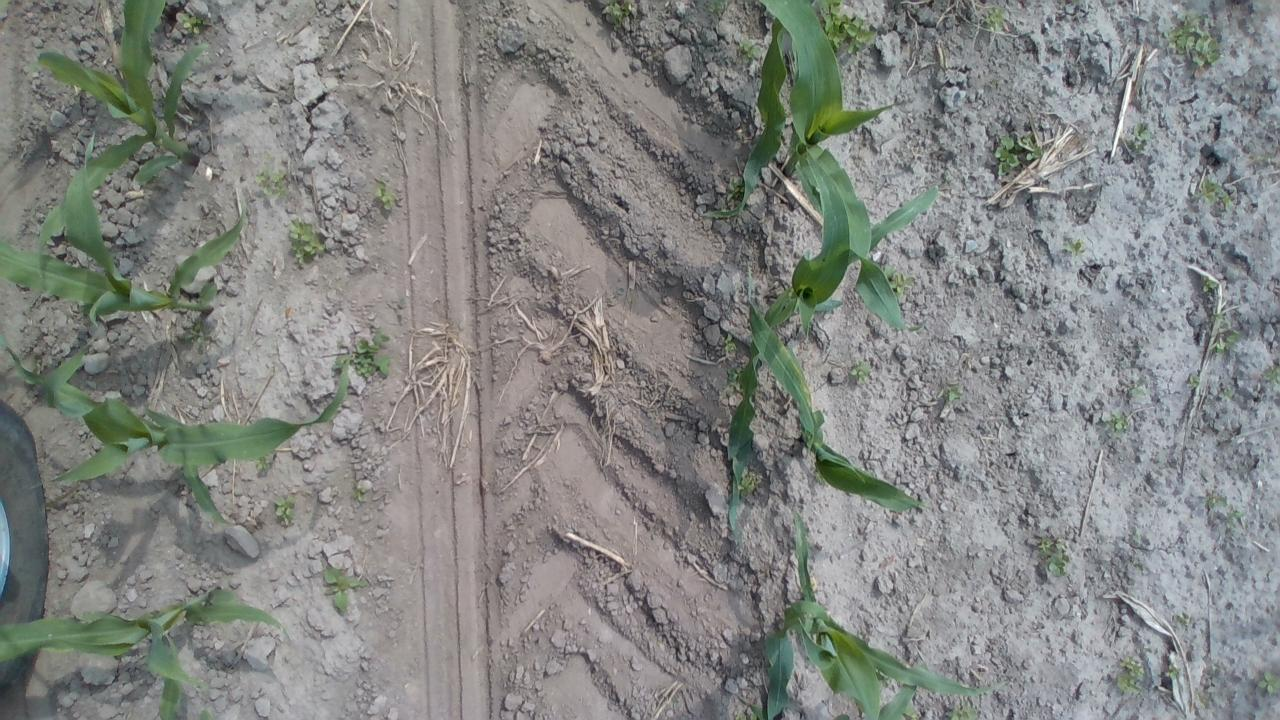Maize: (724, 163, 940, 548), (1, 334, 354, 528), (742, 508, 1005, 720), (0, 132, 249, 350), (754, 2, 912, 335), (28, 0, 206, 287), (749, 266, 939, 530), (0, 588, 293, 720), (702, 0, 794, 226)
Weeds: (810, 0, 879, 56), (332, 328, 396, 380), (1165, 12, 1221, 68), (994, 132, 1044, 176), (322, 566, 367, 612), (286, 217, 325, 266), (255, 150, 289, 200), (1038, 538, 1072, 578), (1194, 176, 1234, 210), (880, 263, 916, 297), (1116, 653, 1145, 695), (604, 0, 634, 30), (737, 466, 765, 497), (1103, 410, 1133, 438), (1210, 327, 1242, 353), (274, 494, 298, 526), (374, 177, 396, 211), (178, 11, 209, 35), (848, 358, 873, 387), (1128, 121, 1151, 151), (182, 320, 208, 346), (1210, 497, 1238, 521), (737, 38, 764, 62), (982, 5, 1005, 32), (723, 367, 745, 393), (947, 704, 981, 720), (1256, 671, 1278, 695), (1062, 236, 1086, 256), (938, 382, 962, 402), (1208, 494, 1230, 514), (1222, 507, 1242, 528), (23, 56, 40, 80), (744, 702, 767, 719), (720, 332, 736, 353), (1200, 275, 1218, 293), (708, 0, 729, 15), (254, 455, 272, 472), (351, 484, 368, 502), (1164, 662, 1180, 680), (1130, 382, 1148, 397), (1176, 613, 1194, 628), (1262, 366, 1276, 384), (1218, 387, 1234, 402), (1188, 374, 1202, 389), (197, 706, 213, 719), (0, 0, 12, 14)
